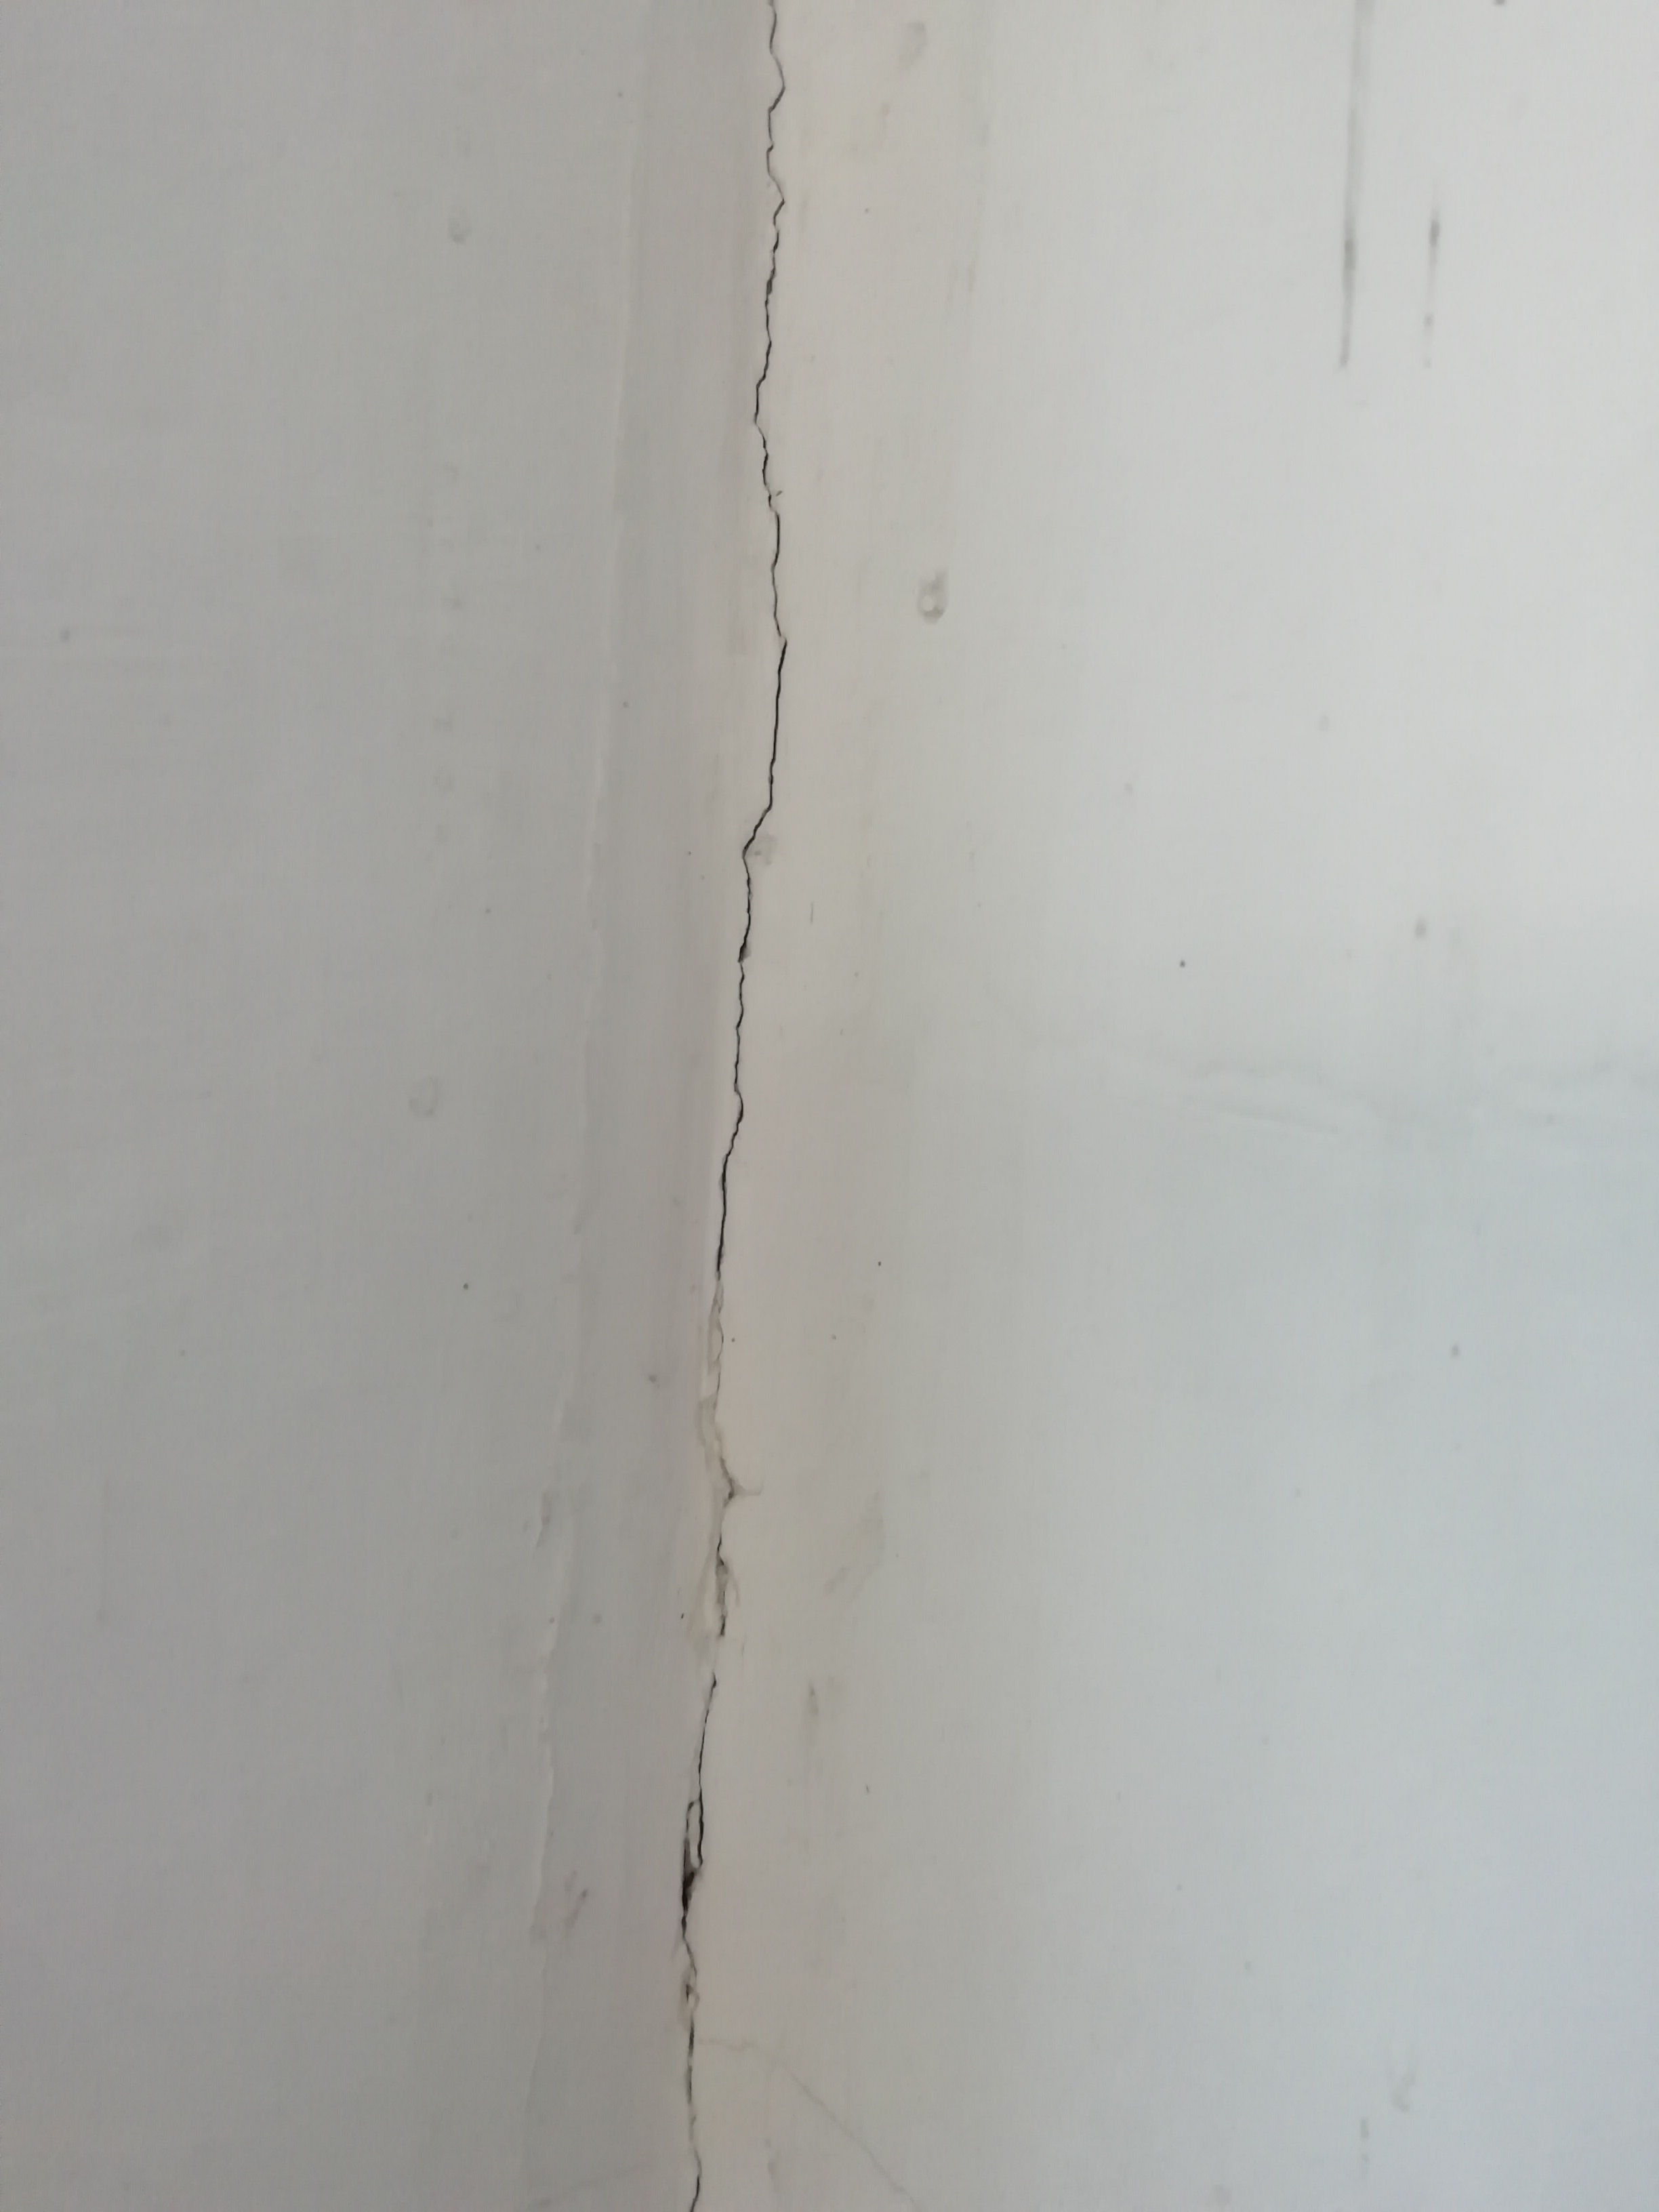Crack: (708, 3, 805, 1289), (662, 1658, 727, 2203)
